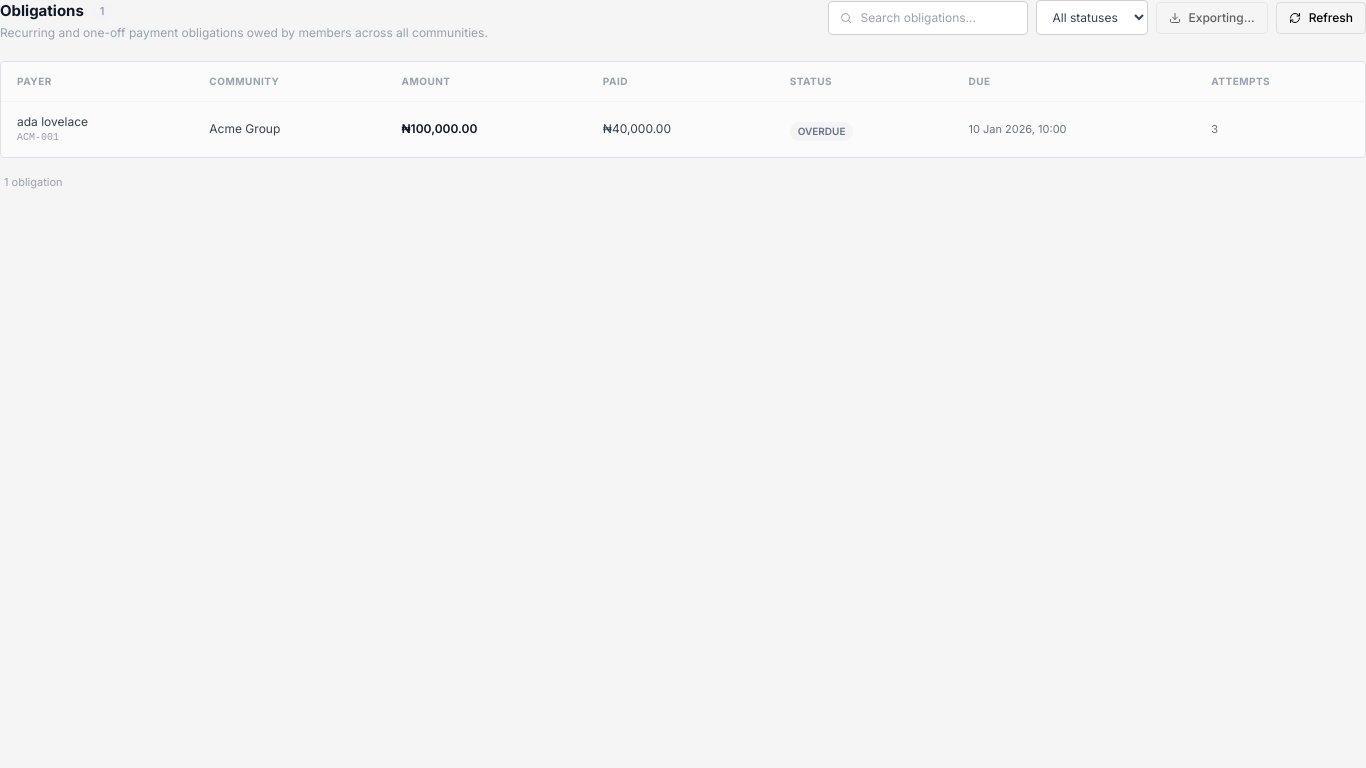
Test case: ObligationsSection › shows no outstanding figure on a fully-paid obligation
Click the text "ACM-001" at [38, 137], box [17,132,59,142]
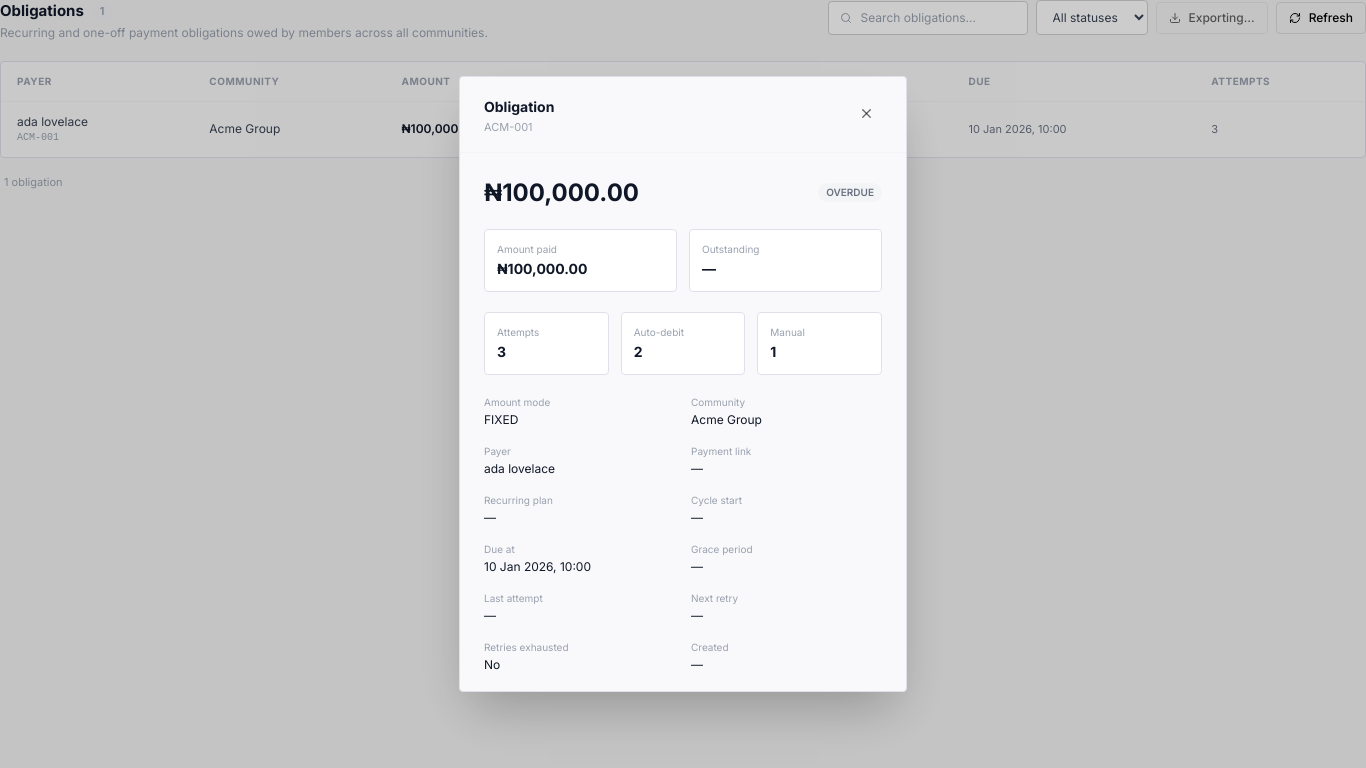
Check: the text "Amount paid" is shown, box [497,243,557,255]
